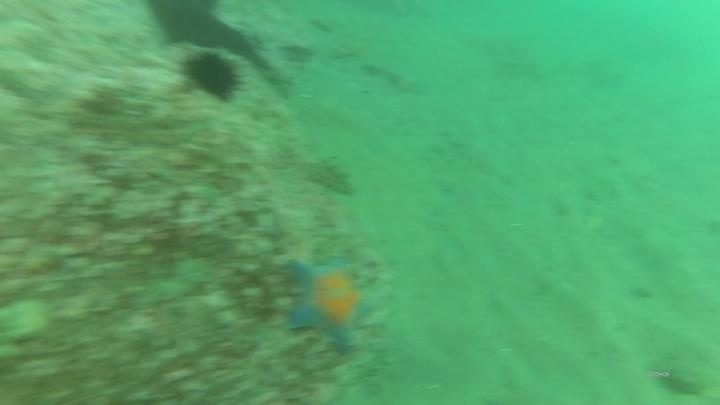echinus: (178, 46, 247, 105)
holothurian: (298, 152, 358, 199)
starfish: (279, 253, 382, 357)
